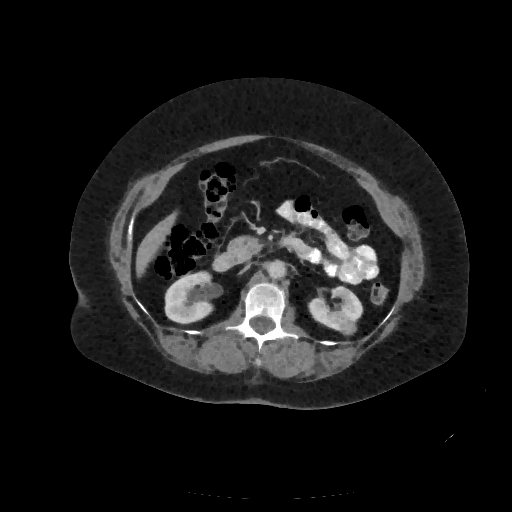Lesion: (342, 320, 359, 337)
